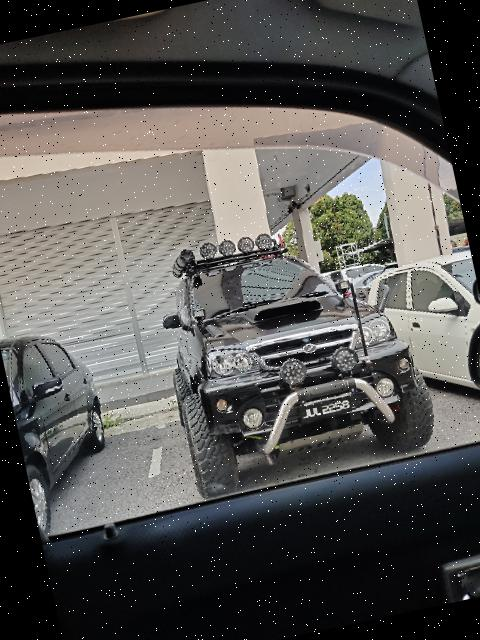License_Plate: (301, 397, 354, 423)
car: (148, 201, 442, 505)
